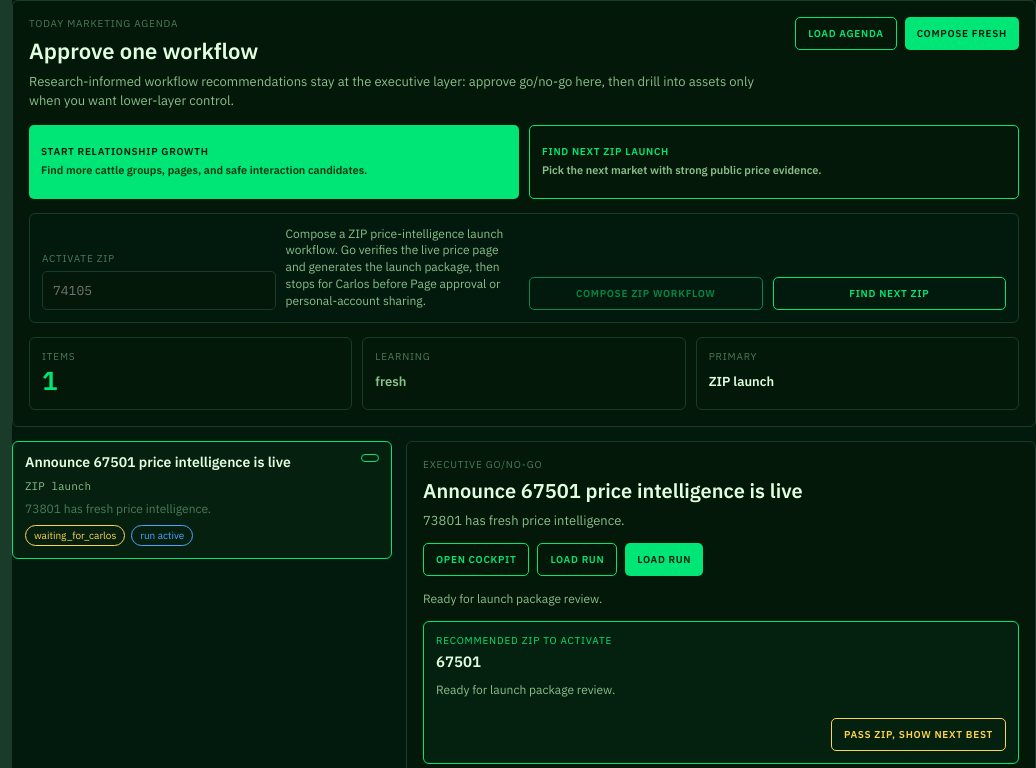
Test: TodayAgendaWorkspace launch package review › shows a clear no-new-ZIP state when compose returns no eligible launch
Click the button "Find next ZIP launch".
click(774, 162)  # box [529,125,1019,199]
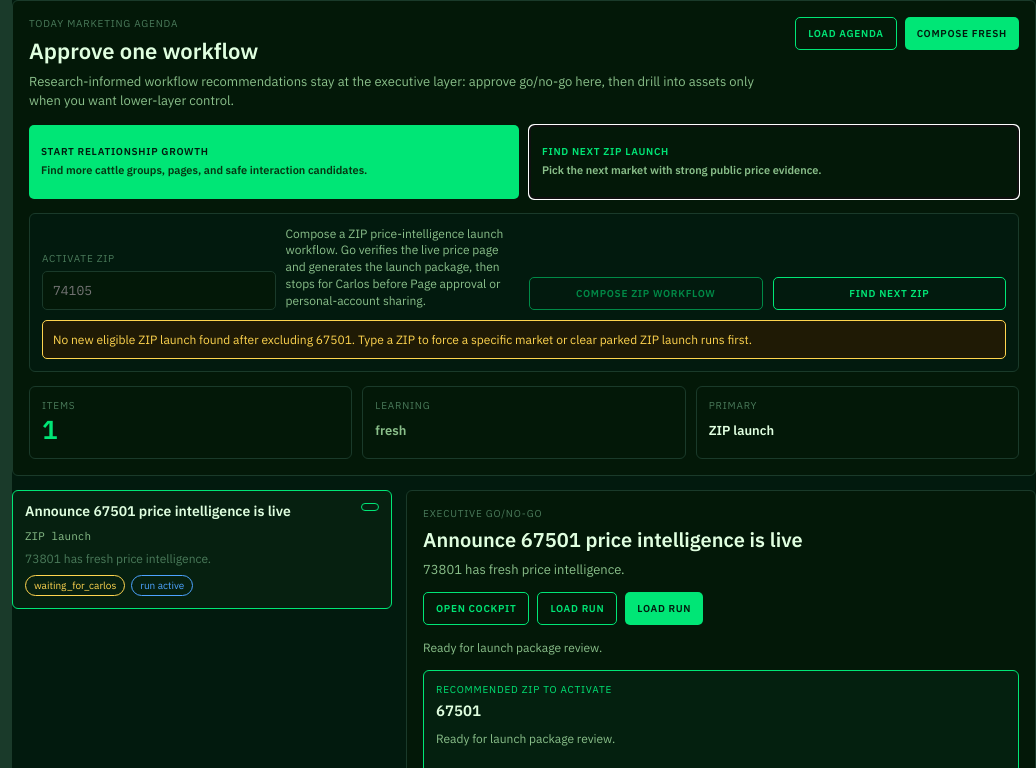
Now the text "No new eligible ZIP launch found after excluding 67501" is shown, box [53,332,752,347]
